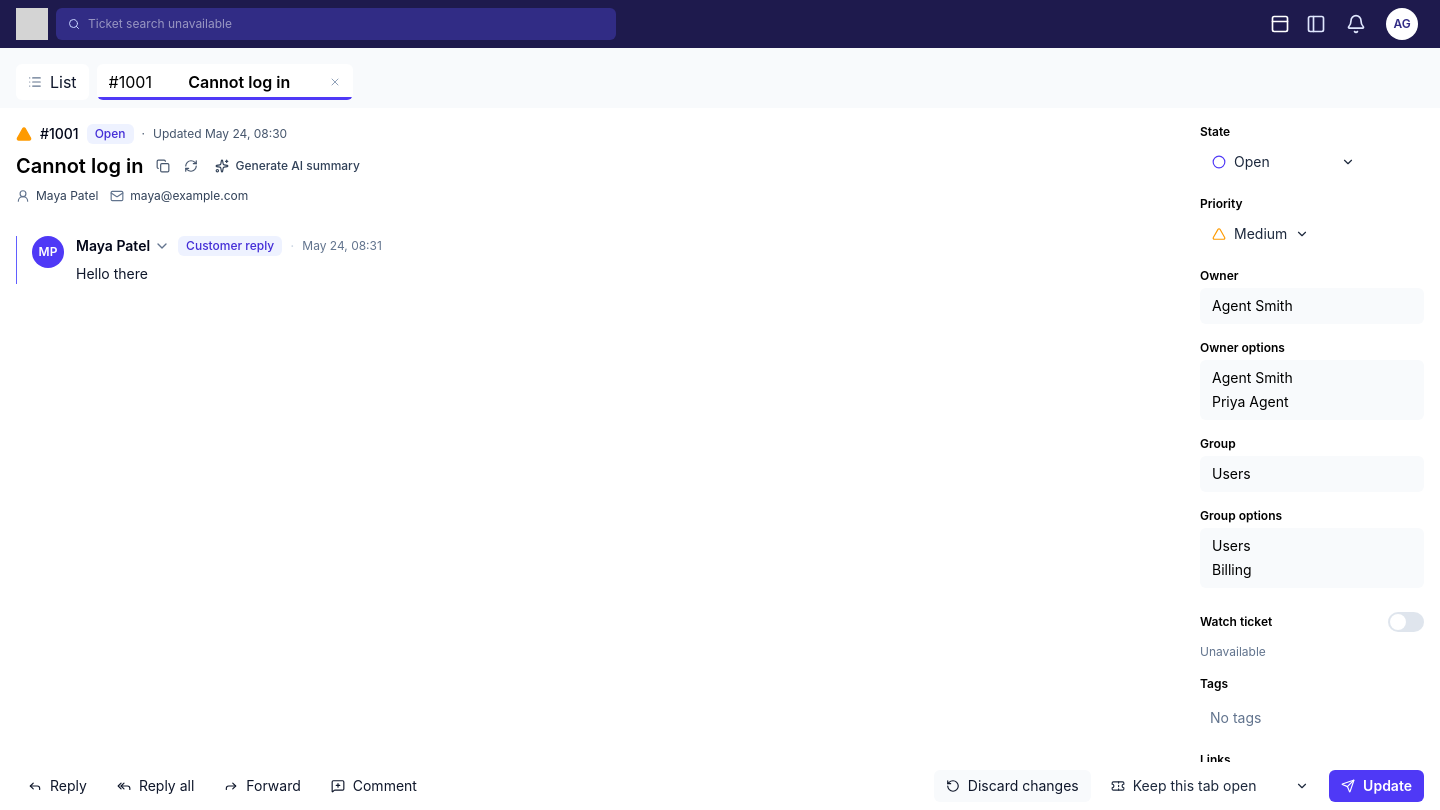
Test: TicketWorkspace metadata mutations › shows mutation errors while keeping the staged draft editable
Click the dropdown named "Ticket priority". click: click(1261, 234)
box: [1200,216,1321,252]
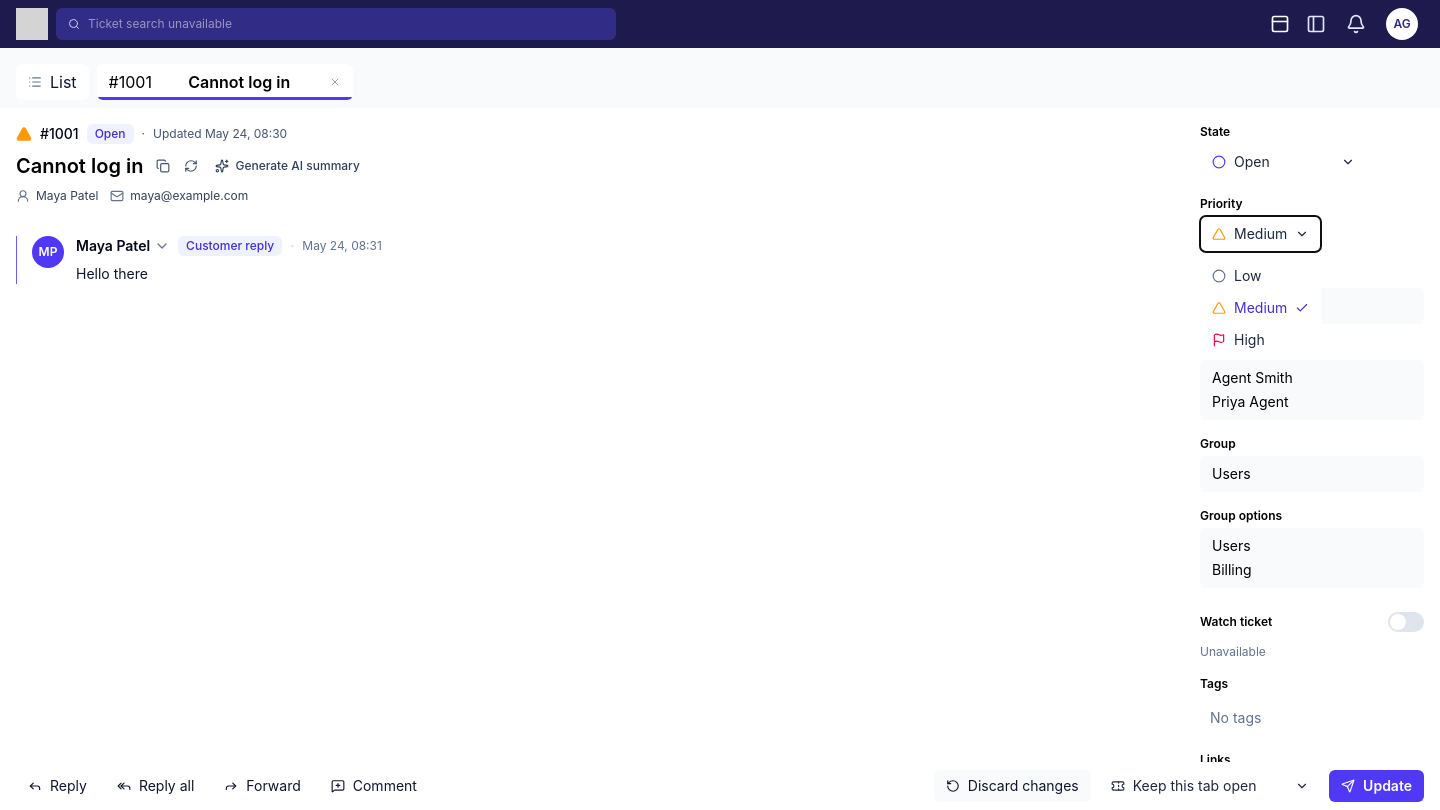
Click the option "High". click: click(1261, 340)
box: [1204,324,1317,356]
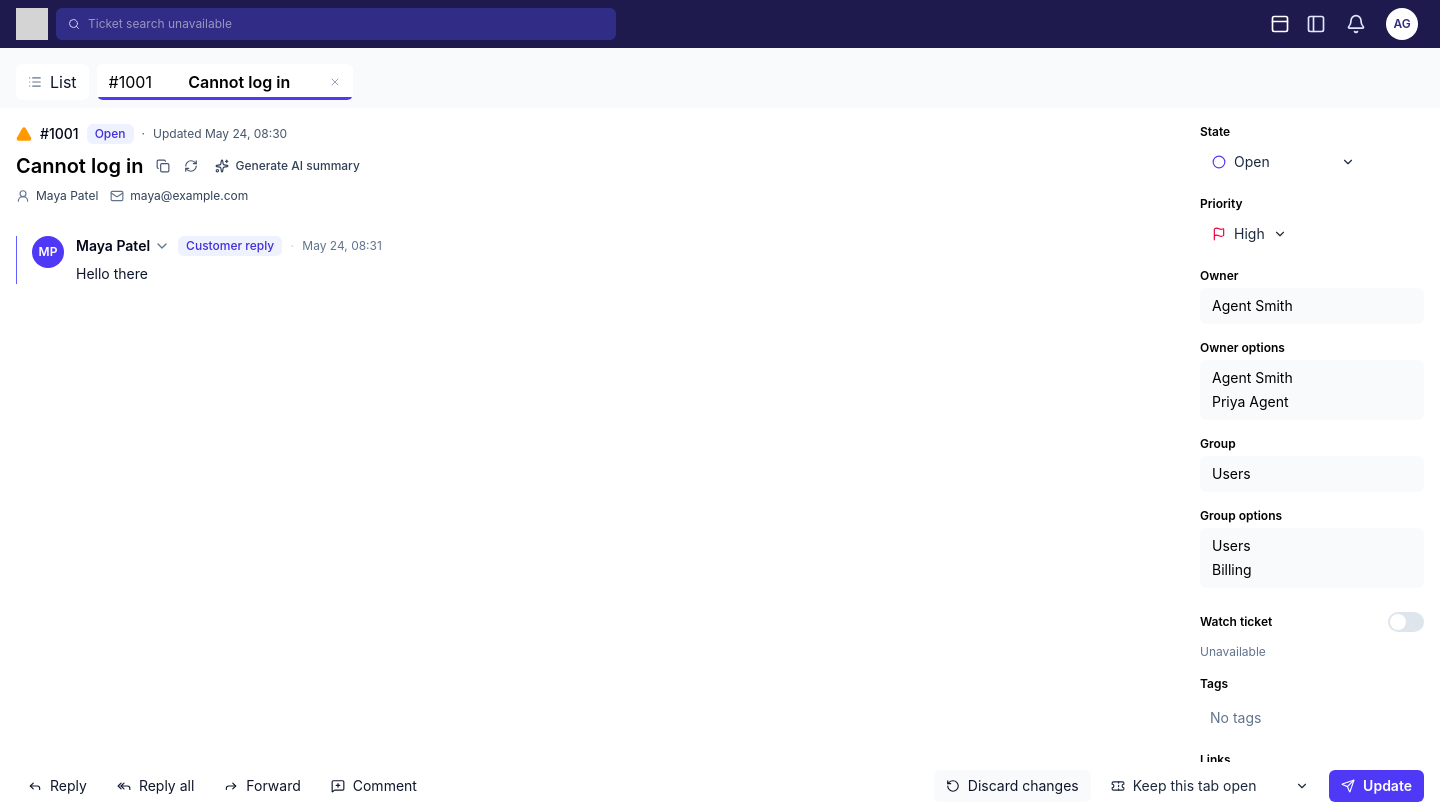
Click the button "Update". click: click(1377, 786)
box: [1329,770,1424,802]
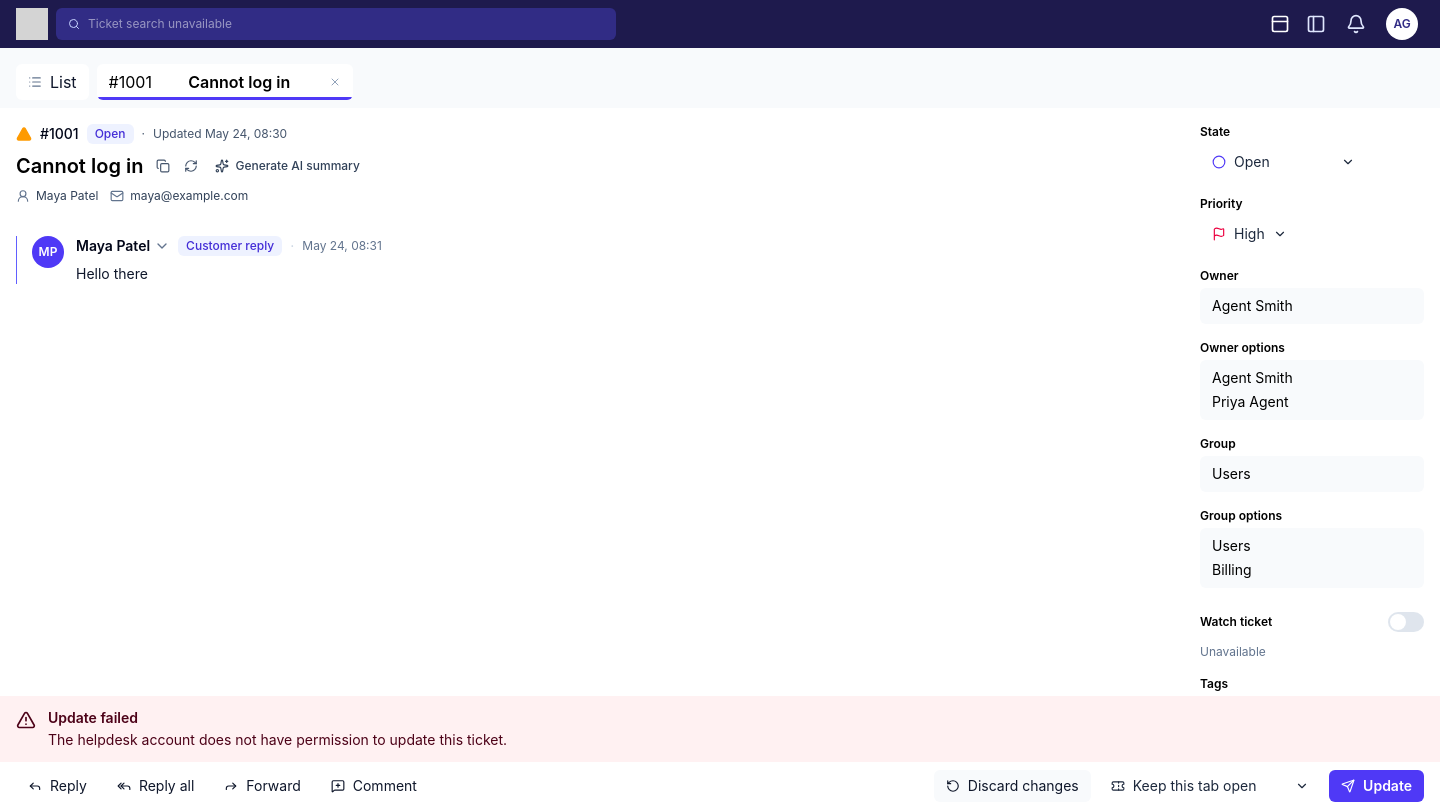
Expected: the dropdown named "Ticket priority" reads "High", [1200,216,1299,252]
Expected: the text "The helpdesk account does not have permission to update this ticket." is shown, [48,730,507,750]
